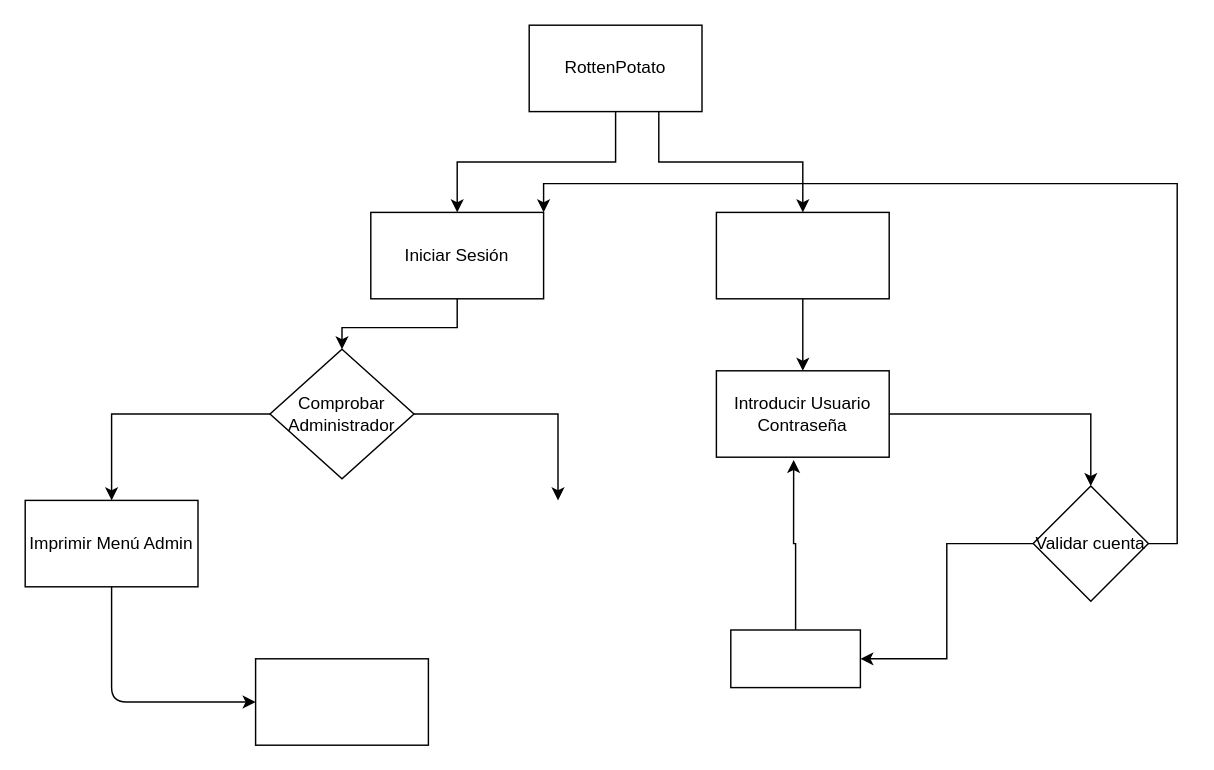
This 1214x770 diagram has some shape labels left out. Each missing label, with the centre of its shape:
"Crear Cuenta" belongs at point 802,255.
"Imprimir menú convencional" belongs at point 341,701.
"Mensaje Error" belongs at point 794,658.
